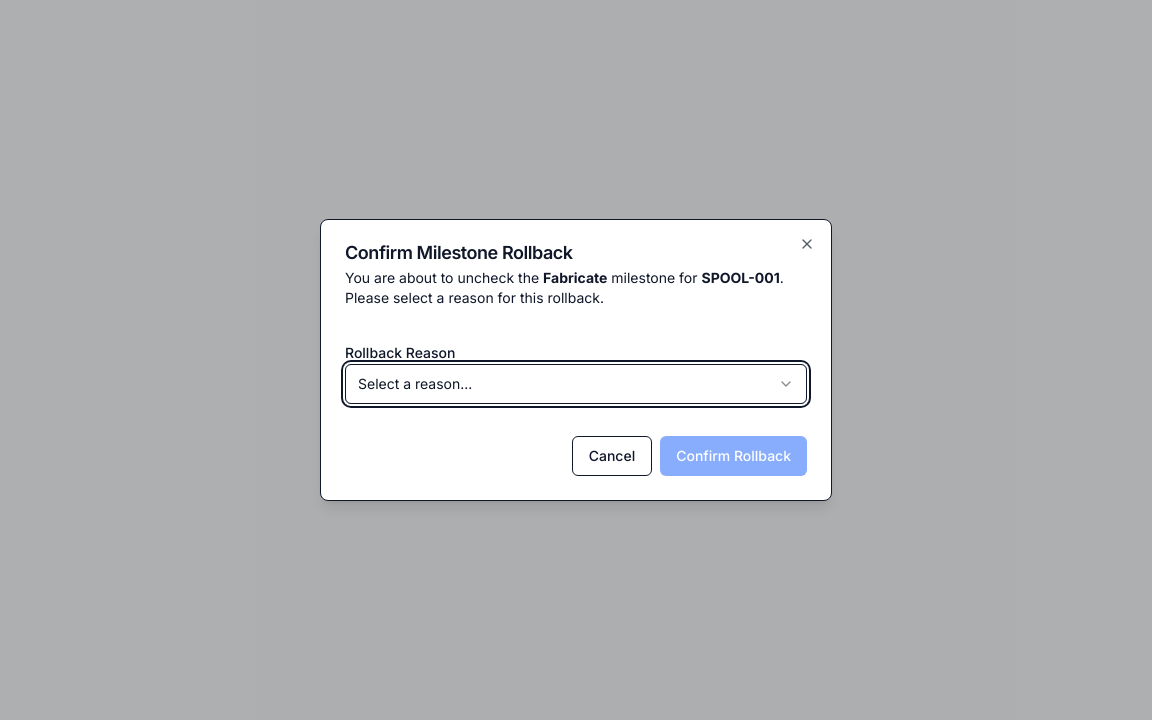
Test: RollbackConfirmationModal › Button States › should show textarea when "Other" is selected
This screenshot has width=1152, height=720.
Click the dropdown: {"x": 415, "y": 384} x1=345 y1=364 x2=807 y2=404
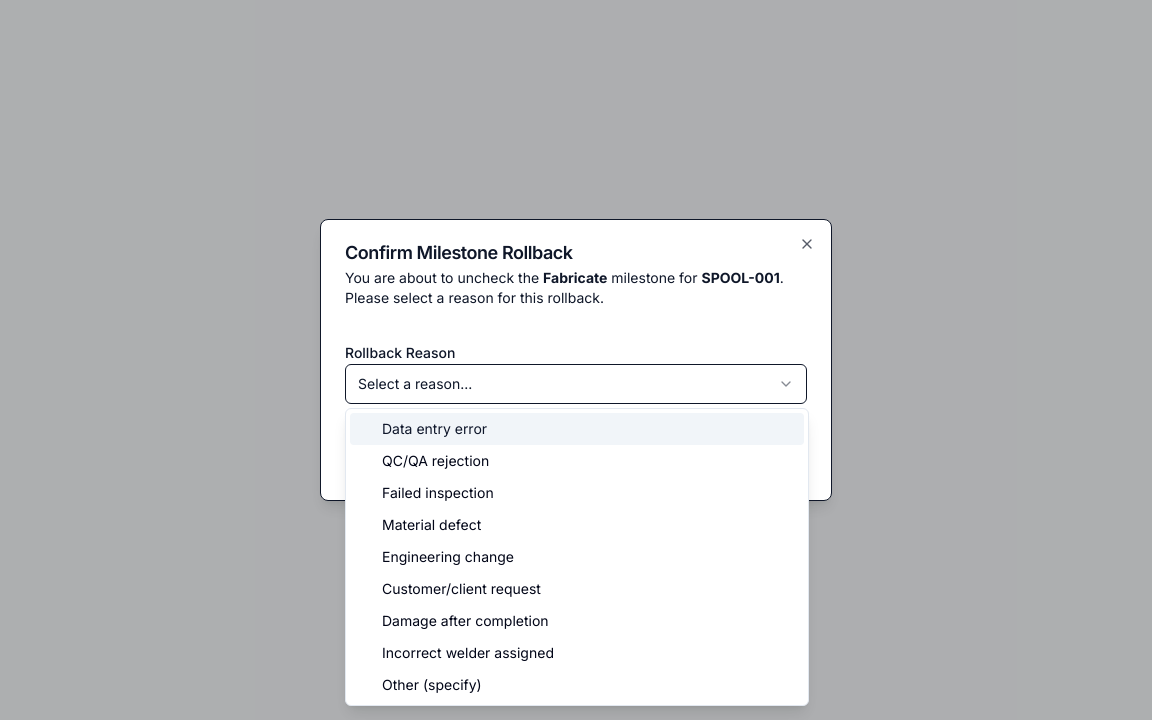
Click the option "Other (specify)": {"x": 432, "y": 684} x1=382 y1=676 x2=482 y2=693
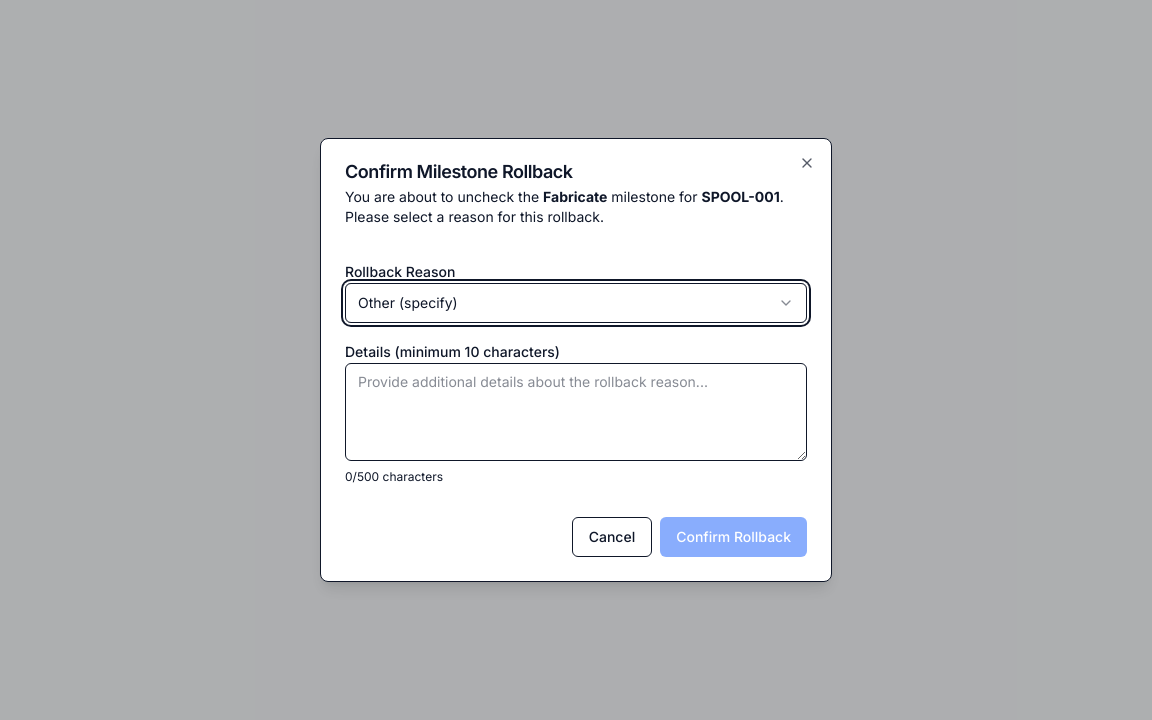
Expected: the text box with placeholder "Provide additional details about the rollback reason..." is shown, x1=345 y1=363 x2=807 y2=461
